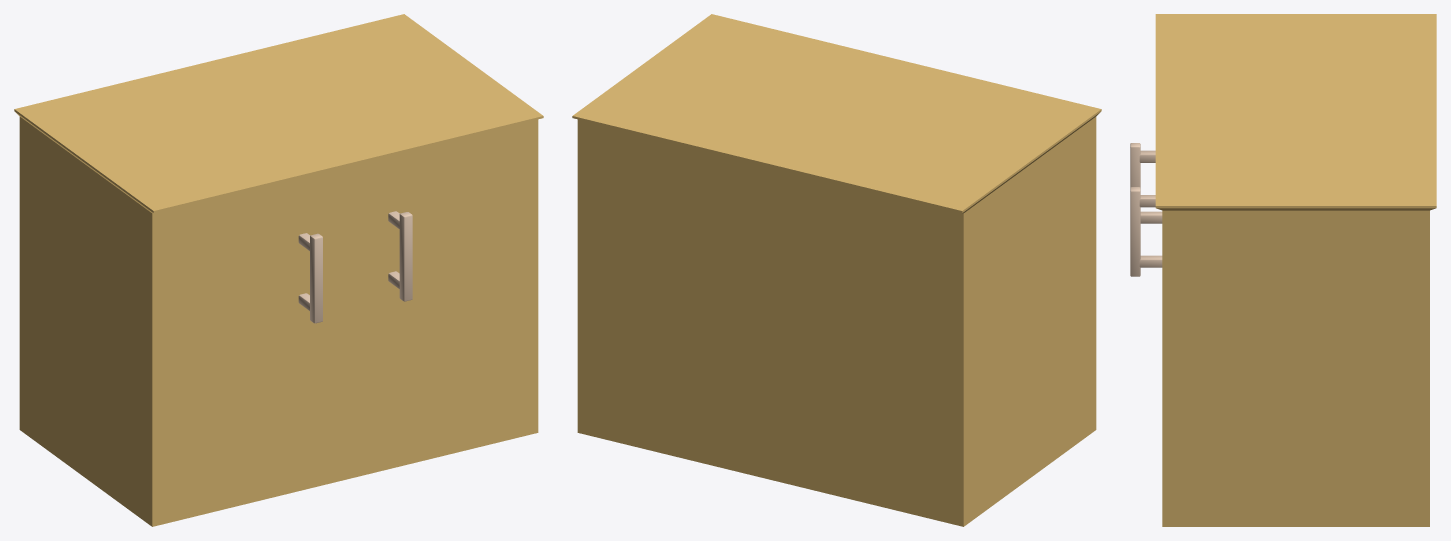
File: SM_petite_armoire.fbx
The picture shows the model from 3 angles, left to right: view 1: azimuth 30°, elevation 25°; view 2: azimuth 150°, elevation 25°; view 3: azimuth 270°, elevation 25°; orthographic projection.
Visible parts, largest first — view 1: Cube.008, Cube.011; view 2: Cube.008; view 3: Cube.008, Cube.011.
Part boxes in pixels (box(x1,y1,x2,y2)): Cube.008: box(14, 14, 543, 526); Cube.011: box(298, 211, 412, 323); Cube.008: box(572, 14, 1101, 526); Cube.008: box(1155, 14, 1436, 526); Cube.011: box(1130, 143, 1162, 276).
Size of the model in its own units: 142 by 111 by 95.98.
